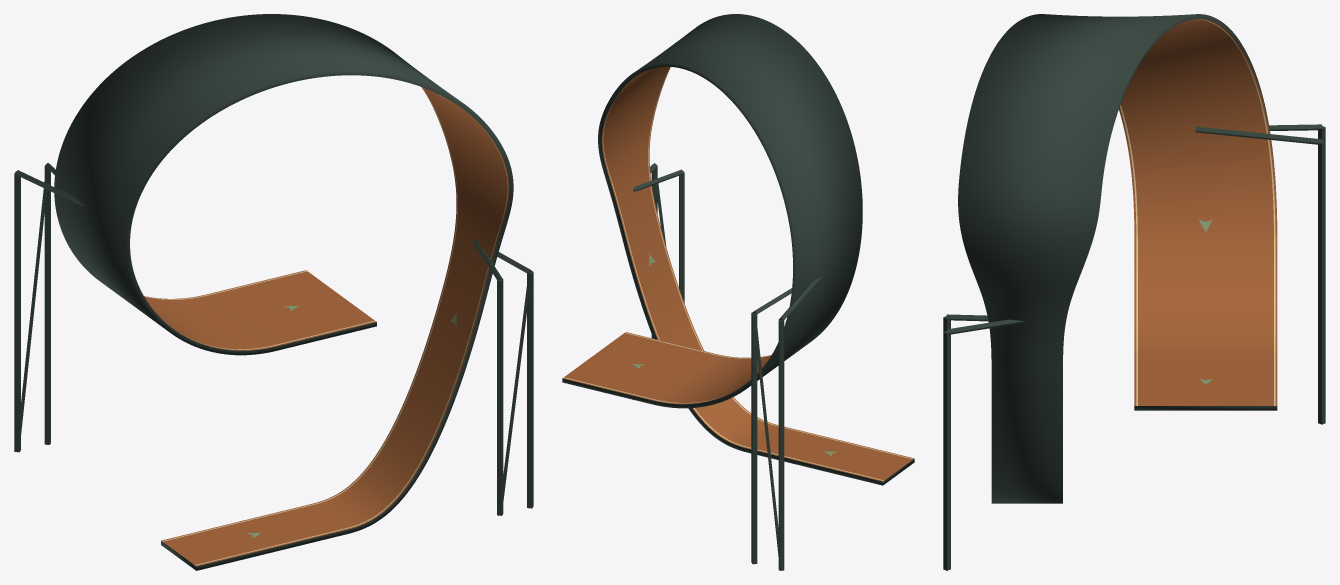
File: loop-prototype.glb
3 renders of one model, left to right at view 1: azimuth 30°, elevation 25°; view 2: azimuth 150°, elevation 25°; view 3: azimuth 270°, elevation 25°, orthographic. The views are drawn at different scales.
Parts seen in each view (by area): view 1: Loop_Underside, Loop_RidingSurface, Loop_Back_Post_-0.3, Loop_Back_Post_0.3, Loop_Front_Post_-0.3, Loop_Front_Post_0.3, Loop_Edge_1, Loop_Edge_-1, Loop_Back_Brace, Loop_Front_Brace; view 2: Loop_Underside, Loop_RidingSurface, Loop_Back_Post_-0.3, Loop_Back_Post_0.3, Loop_Edge_-1, Loop_Back_Brace, Loop_Edge_1, Loop_Front_Post_-0.3; view 3: Loop_Underside, Loop_RidingSurface, Loop_Back_Post_0.3, Loop_Front_Post_0.3, Loop_Edge_-1, Loop_Back_Cantilever_0.3, Loop_Edge_1.
Boxes of the visible parts, x1,y1,x2,y2 form: Loop_Underside: (54,14,513,570); Loop_RidingSurface: (144,87,509,566); Loop_Back_Post_-0.3: (14,171,20,452); Loop_Back_Post_0.3: (44,164,50,444); Loop_Front_Post_-0.3: (497,279,503,515); Loop_Front_Post_0.3: (527,271,533,508); Loop_Edge_1: (166,110,508,565); Loop_Edge_-1: (144,87,457,541); Loop_Back_Brace: (20,180,47,436); Loop_Front_Brace: (502,272,530,502); Loop_Underside: (562,14,914,485); Loop_RidingSurface: (562,66,914,481); Loop_Back_Post_-0.3: (778,319,784,570); Loop_Back_Post_0.3: (751,312,757,564); Loop_Edge_-1: (563,81,883,480); Loop_Back_Brace: (754,313,779,557); Loop_Edge_1: (624,67,913,459); Loop_Front_Post_-0.3: (679,171,684,302); Loop_Underside: (958,14,1277,503); Loop_RidingSurface: (1119,19,1277,405); Loop_Back_Post_0.3: (1318,141,1325,424); Loop_Front_Post_0.3: (943,331,950,570); Loop_Edge_-1: (1198,19,1275,405); Loop_Back_Cantilever_0.3: (1195,126,1322,144); Loop_Edge_1: (1120,105,1137,405).
Bounding box in the file's own units: 6.64 × 8.71 × 6.53.
